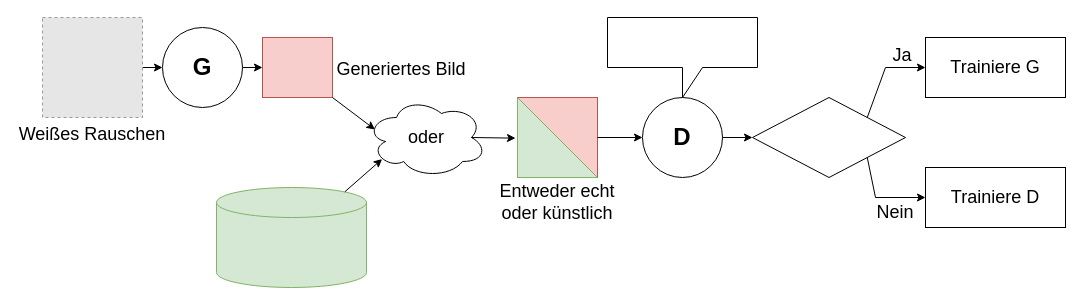
Some shapes in this 1083 by 305 pixel diagram are drawn without their labels. Grey dashed boxes stand in for pictures. Each missing label, with the centre of its shape:
"Bild ist echt/ Bild ist künstlich" goes at (682,57).
"Hat D Recht?" goes at (829,137).
"Trainingsdaten" goes at (291,237).
